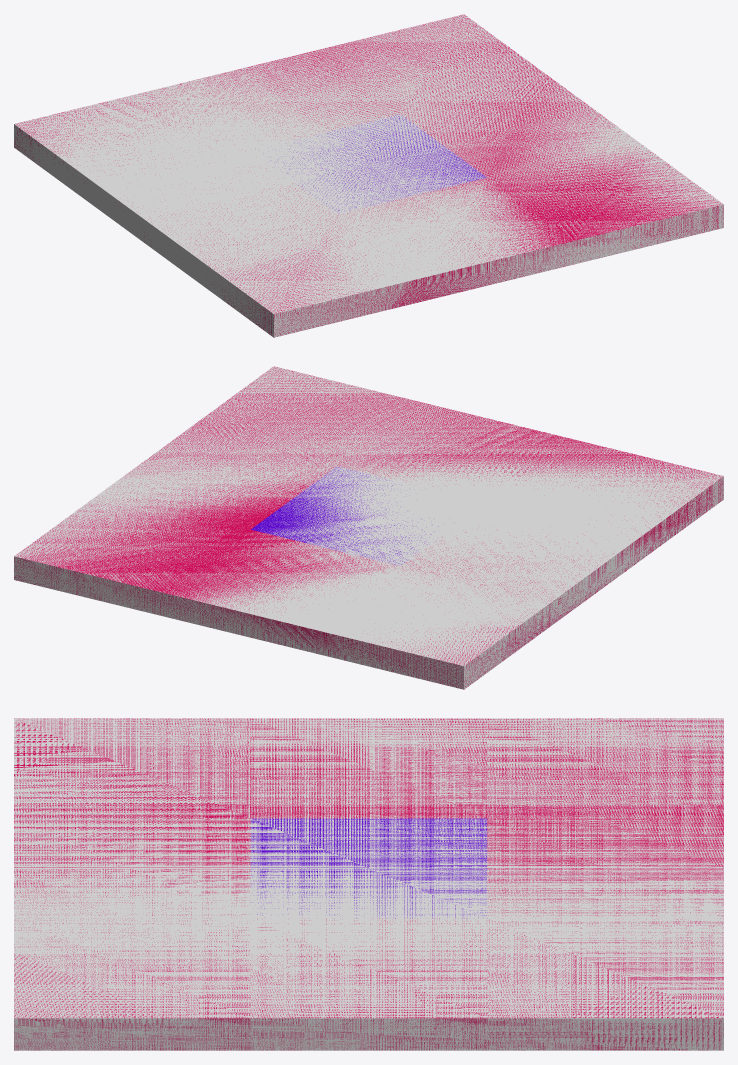
Rendered from basic.glb.
The picture shows the model from 3 angles, top to bottom: view 1: azimuth 30°, elevation 25°; view 2: azimuth 150°, elevation 25°; view 3: azimuth 270°, elevation 25°; orthographic projection. The views are drawn at different scales.
Parts seen in each view (by area): view 1: physics, mesh; view 2: physics, mesh; view 3: physics, mesh.
Boxes of the visible parts, x1,y1,x2,y2 form: physics: (14, 14, 723, 337); mesh: (14, 14, 723, 337); physics: (14, 366, 723, 689); mesh: (14, 367, 723, 689); physics: (14, 718, 723, 1050); mesh: (14, 718, 723, 1050).
Size of the model in its own units: 1 by 0.05 by 1.
